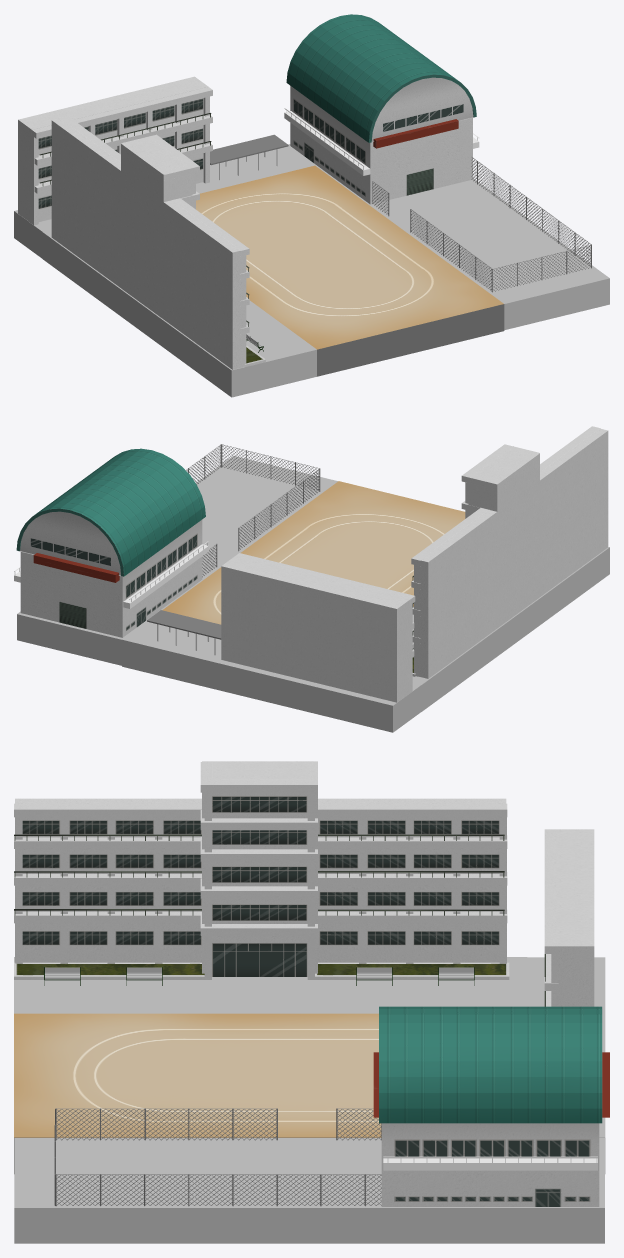
Rendered from schoop06.fbx.
3 views of the same model, one above another, from view 1: azimuth 30°, elevation 25°; view 2: azimuth 150°, elevation 25°; view 3: azimuth 270°, elevation 25° (orthographic). The views are drawn at different scales.
Parts seen in each view (by area): view 1: ground04, Cube, Cylinder, ground01, Cube.007, Cube.001, Cube.004, Cube.005, Cube.006, ground02, b103_balcony4.011, roof (+7 smaller); view 2: Cube.006, ground04, Cylinder, Cube, ground02, Cube.004, Cube.001, Cube.007, Cube.005, ground01, roof, b103_balcony1.003 (+5 smaller); view 3: Cube, ground04, Cylinder, Cube.004, Cube.007, ground01, Cube.005, Cube.001, Cube.006, b103_balcony1.002, b103_balcony4.008, b103_balcony4.003 (+38 smaller).
Boxes of the visible parts, bbox=[...] form: ground04: bbox=[196, 165, 504, 376]; Cube: bbox=[288, 144, 609, 330]; Cylinder: bbox=[286, 14, 476, 142]; ground01: bbox=[42, 230, 316, 397]; Cube.007: bbox=[163, 200, 242, 369]; Cube.001: bbox=[290, 86, 472, 204]; Cube.004: bbox=[51, 118, 120, 287]; Cube.005: bbox=[121, 140, 192, 319]; Cube.006: bbox=[18, 76, 208, 223]; ground02: bbox=[14, 146, 314, 258]; b103_balcony4.011: bbox=[31, 87, 212, 138]; roof: bbox=[210, 134, 288, 165]; Cube.006: bbox=[221, 556, 410, 702]; ground04: bbox=[162, 481, 465, 624]; Cylinder: bbox=[16, 448, 205, 576]; Cube: bbox=[17, 455, 337, 665]; ground02: bbox=[122, 621, 421, 732]; Cube.004: bbox=[418, 510, 497, 678]; Cube.001: bbox=[20, 520, 202, 637]; Cube.007: bbox=[540, 428, 608, 596]; Cube.005: bbox=[468, 449, 539, 628]; ground01: bbox=[412, 547, 609, 711]; roof: bbox=[147, 610, 221, 639]; b103_balcony1.003: bbox=[123, 541, 208, 608]; Cube: bbox=[14, 1138, 604, 1243]; ground04: bbox=[14, 1013, 381, 1173]; Cylinder: bbox=[379, 1006, 602, 1123]; Cube.004: bbox=[318, 798, 506, 962]; Cube.007: bbox=[15, 798, 201, 962]; ground01: bbox=[14, 957, 527, 1013]; Cube.005: bbox=[202, 761, 317, 976]; Cube.001: bbox=[381, 1123, 599, 1206]; Cube.006: bbox=[556, 829, 594, 1006]; b103_balcony1.002: bbox=[383, 1156, 597, 1170]; b103_balcony4.008: bbox=[318, 803, 507, 817]; b103_balcony4.003: bbox=[14, 803, 201, 817].
Bounding box in the file's own units: 2020 × 864 × 2002.
